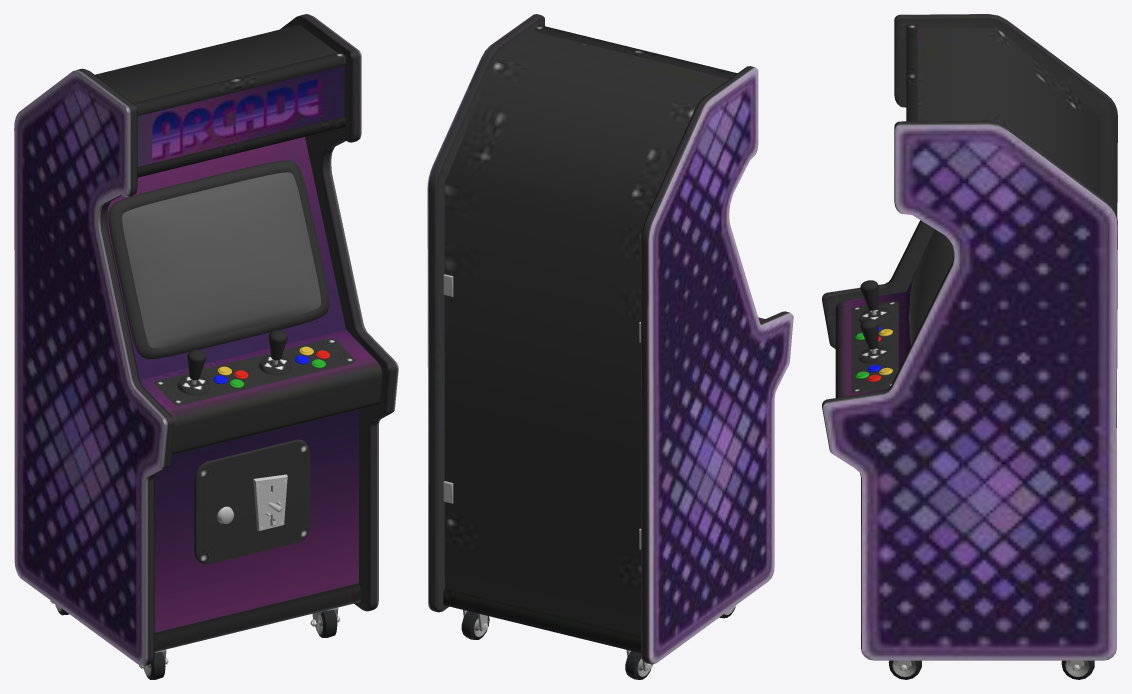
File: estrellas.glb
3 views of the same model, side by side, from view 1: azimuth 30°, elevation 25°; view 2: azimuth 150°, elevation 25°; view 3: azimuth 270°, elevation 25° (orthographic). The views are drawn at different scales.
Visible parts, largest first — view 1: maquina; view 2: maquina; view 3: maquina.
Part boxes in pixels (left/top/right/bottom): maquina: left=14, top=14, right=398, bottom=679; maquina: left=427, top=14, right=793, bottom=679; maquina: left=822, top=14, right=1117, bottom=679.
Bounding box in the file's own units: 0.7997 × 1.9 × 0.8965.
1 material, 1 textured.
